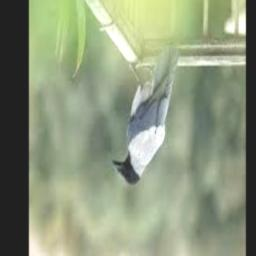Crow: (112, 48, 180, 187)
